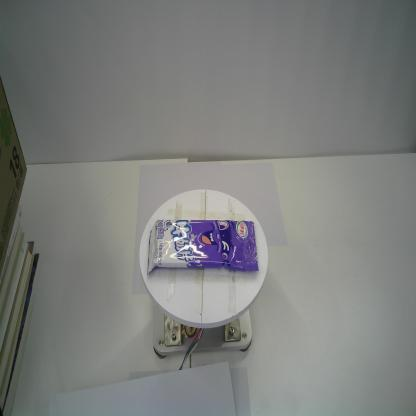Candy: (147, 218, 259, 276)
